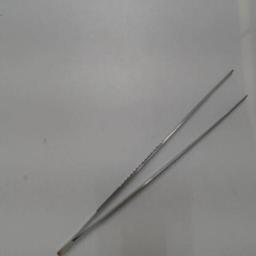DeBakey Dissector: (51, 68, 255, 254)
